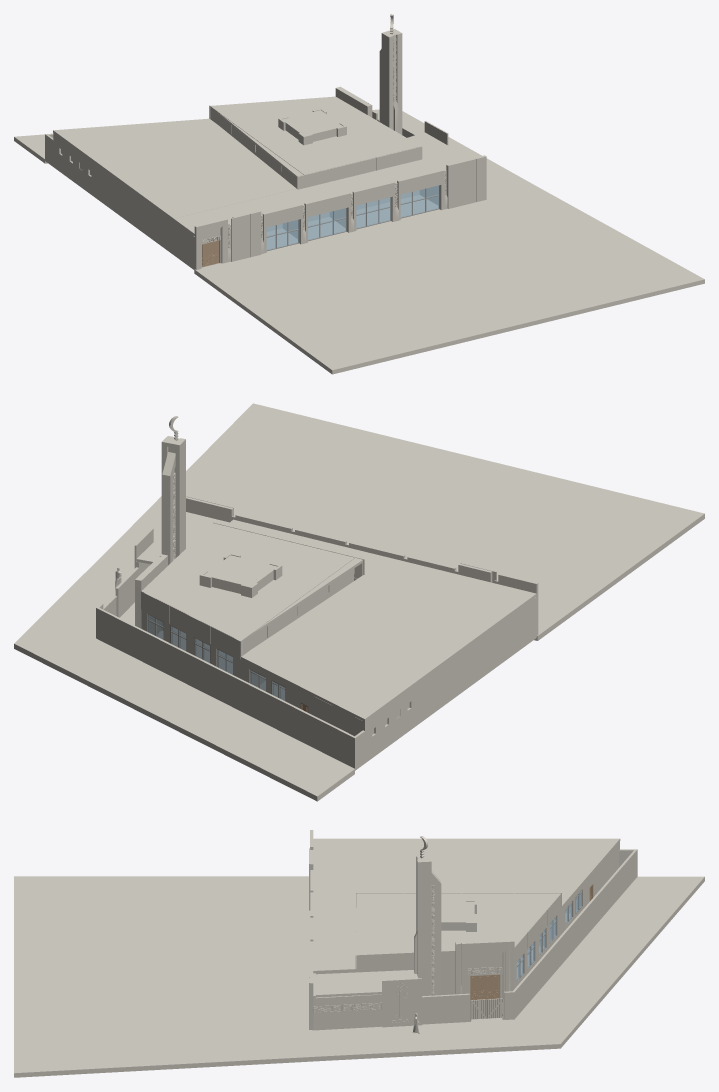
The model's file is al-muhsin-mosque.glb.
The picture shows the model from 3 angles, top to bottom: view 1: azimuth 30°, elevation 25°; view 2: azimuth 150°, elevation 25°; view 3: azimuth 270°, elevation 25°; orthographic projection. The views are drawn at different scales.
Visible parts, largest first — view 1: stone, glass, metal; view 2: stone, glass, metal; view 3: stone, glass, wood, metal.
Part boxes in pixels (left/top/right/bottom): stone: left=14, top=14, right=704, bottom=374; glass: left=266, top=185, right=438, bottom=250; metal: left=266, top=185, right=439, bottom=251; stone: left=14, top=403, right=704, bottom=801; glass: left=148, top=614, right=285, bottom=700; metal: left=147, top=614, right=285, bottom=700; stone: left=14, top=830, right=704, bottom=1077; glass: left=516, top=891, right=581, bottom=980; wood: left=470, top=884, right=592, bottom=1000; metal: left=516, top=889, right=582, bottom=981.
Size of the model in its own units: 67.46 by 27.93 by 100.
